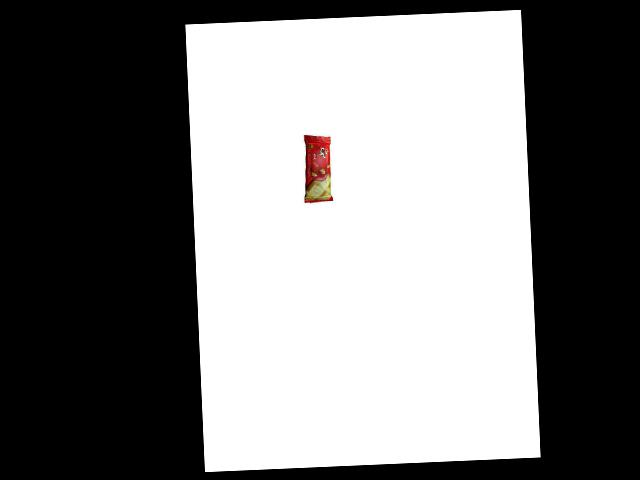chocolate: (297, 129, 335, 203)
